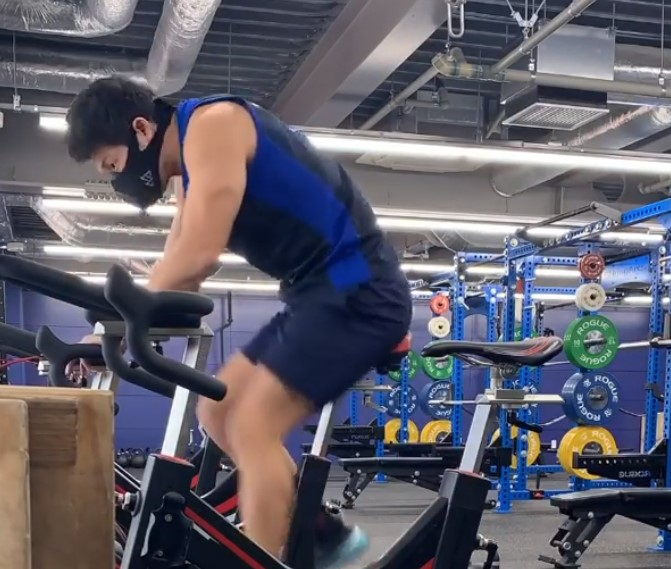face_with_mask: (64, 75, 177, 210)
